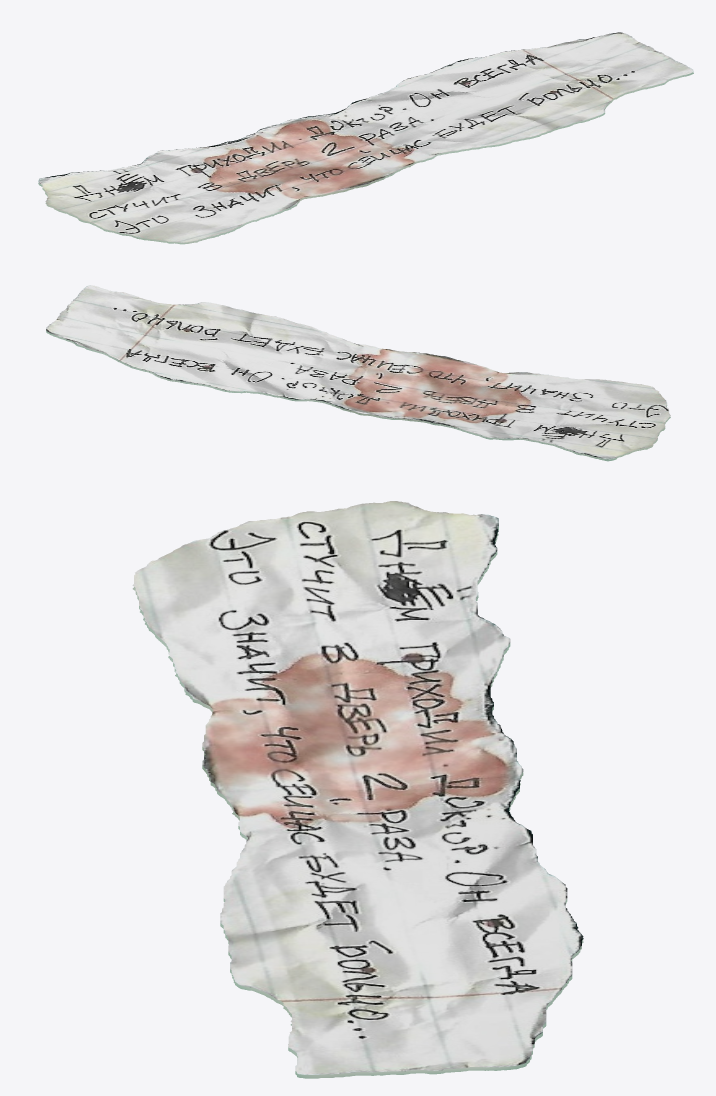
Rendered from Note_2.fbx.
3 renders of one model, top to bottom at view 1: azimuth 30°, elevation 25°; view 2: azimuth 150°, elevation 25°; view 3: azimuth 270°, elevation 25°, orthographic. The views are drawn at different scales.
Visible parts, largest first — view 1: Note_2; view 2: Note_2; view 3: Note_2.
Boxes of the visible parts, x1,y1,x2,y2 form: Note_2: (38, 32, 693, 244); Note_2: (46, 285, 670, 461); Note_2: (132, 501, 583, 1078).
Size of the model in its own units: 0.1777 by 0.00422 by 0.0599.
Materials: 2 (2 with a texture image).
